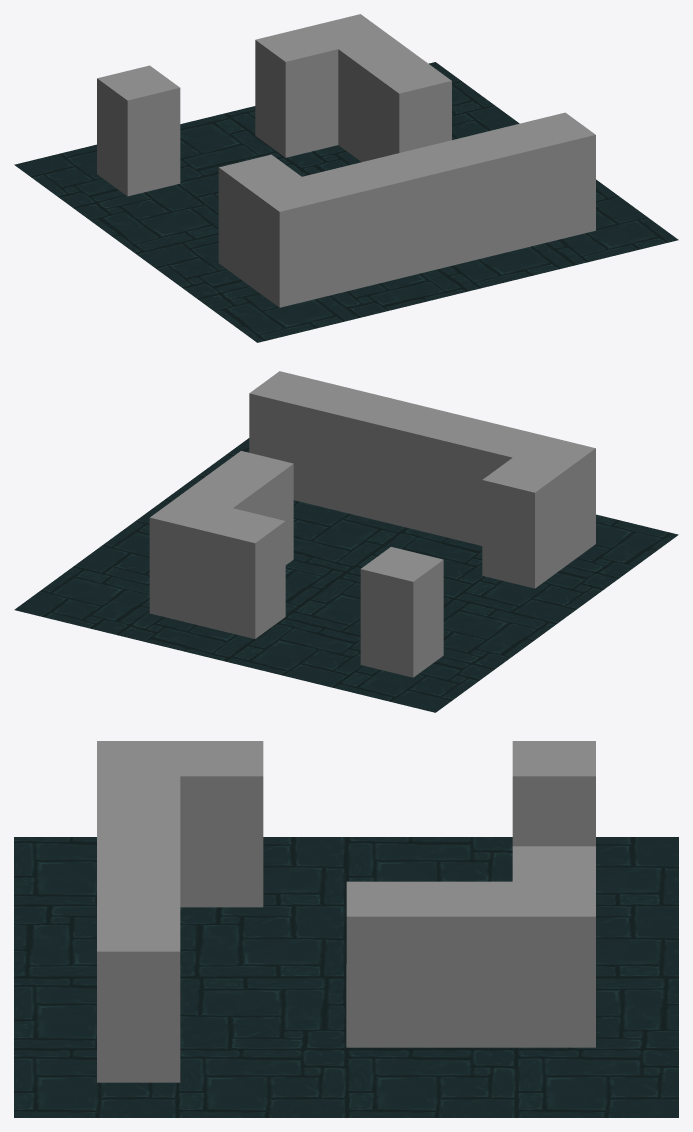
File: tile_008.FBX
The picture shows the model from 3 angles, top to bottom: view 1: azimuth 30°, elevation 25°; view 2: azimuth 150°, elevation 25°; view 3: azimuth 270°, elevation 25°; orthographic projection. The views are drawn at different scales.
Visible parts, largest first — view 1: tile_008; view 2: tile_008; view 3: tile_008.
Part boxes in pixels (x1,y1,x2,y2): tile_008: (14, 14, 678, 342); tile_008: (14, 371, 678, 712); tile_008: (14, 741, 678, 1117).
Bounding box in the file's own units: 30 × 6.52 × 30.
